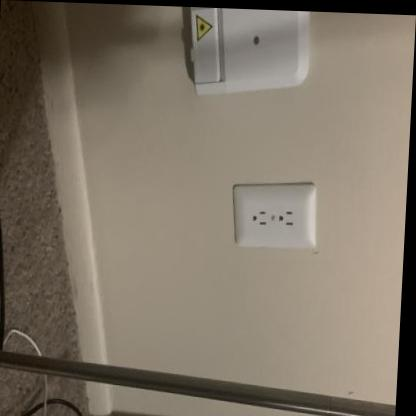OUTLET: (229, 182, 319, 252)
